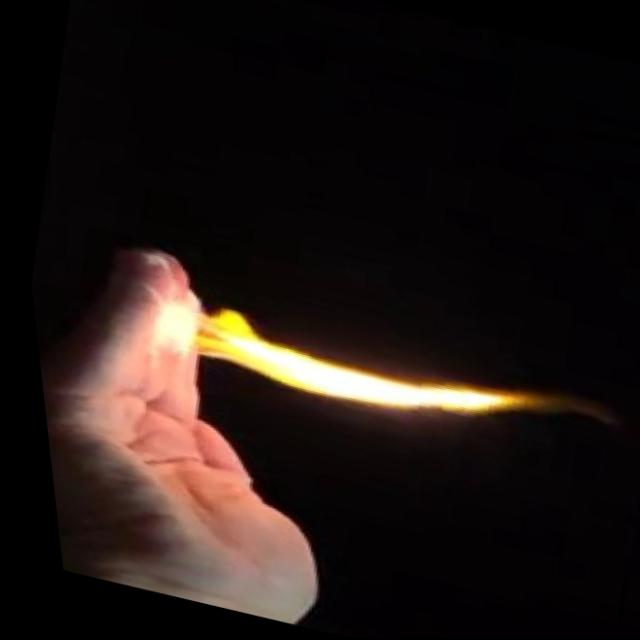Fire: (101, 281, 519, 456)
